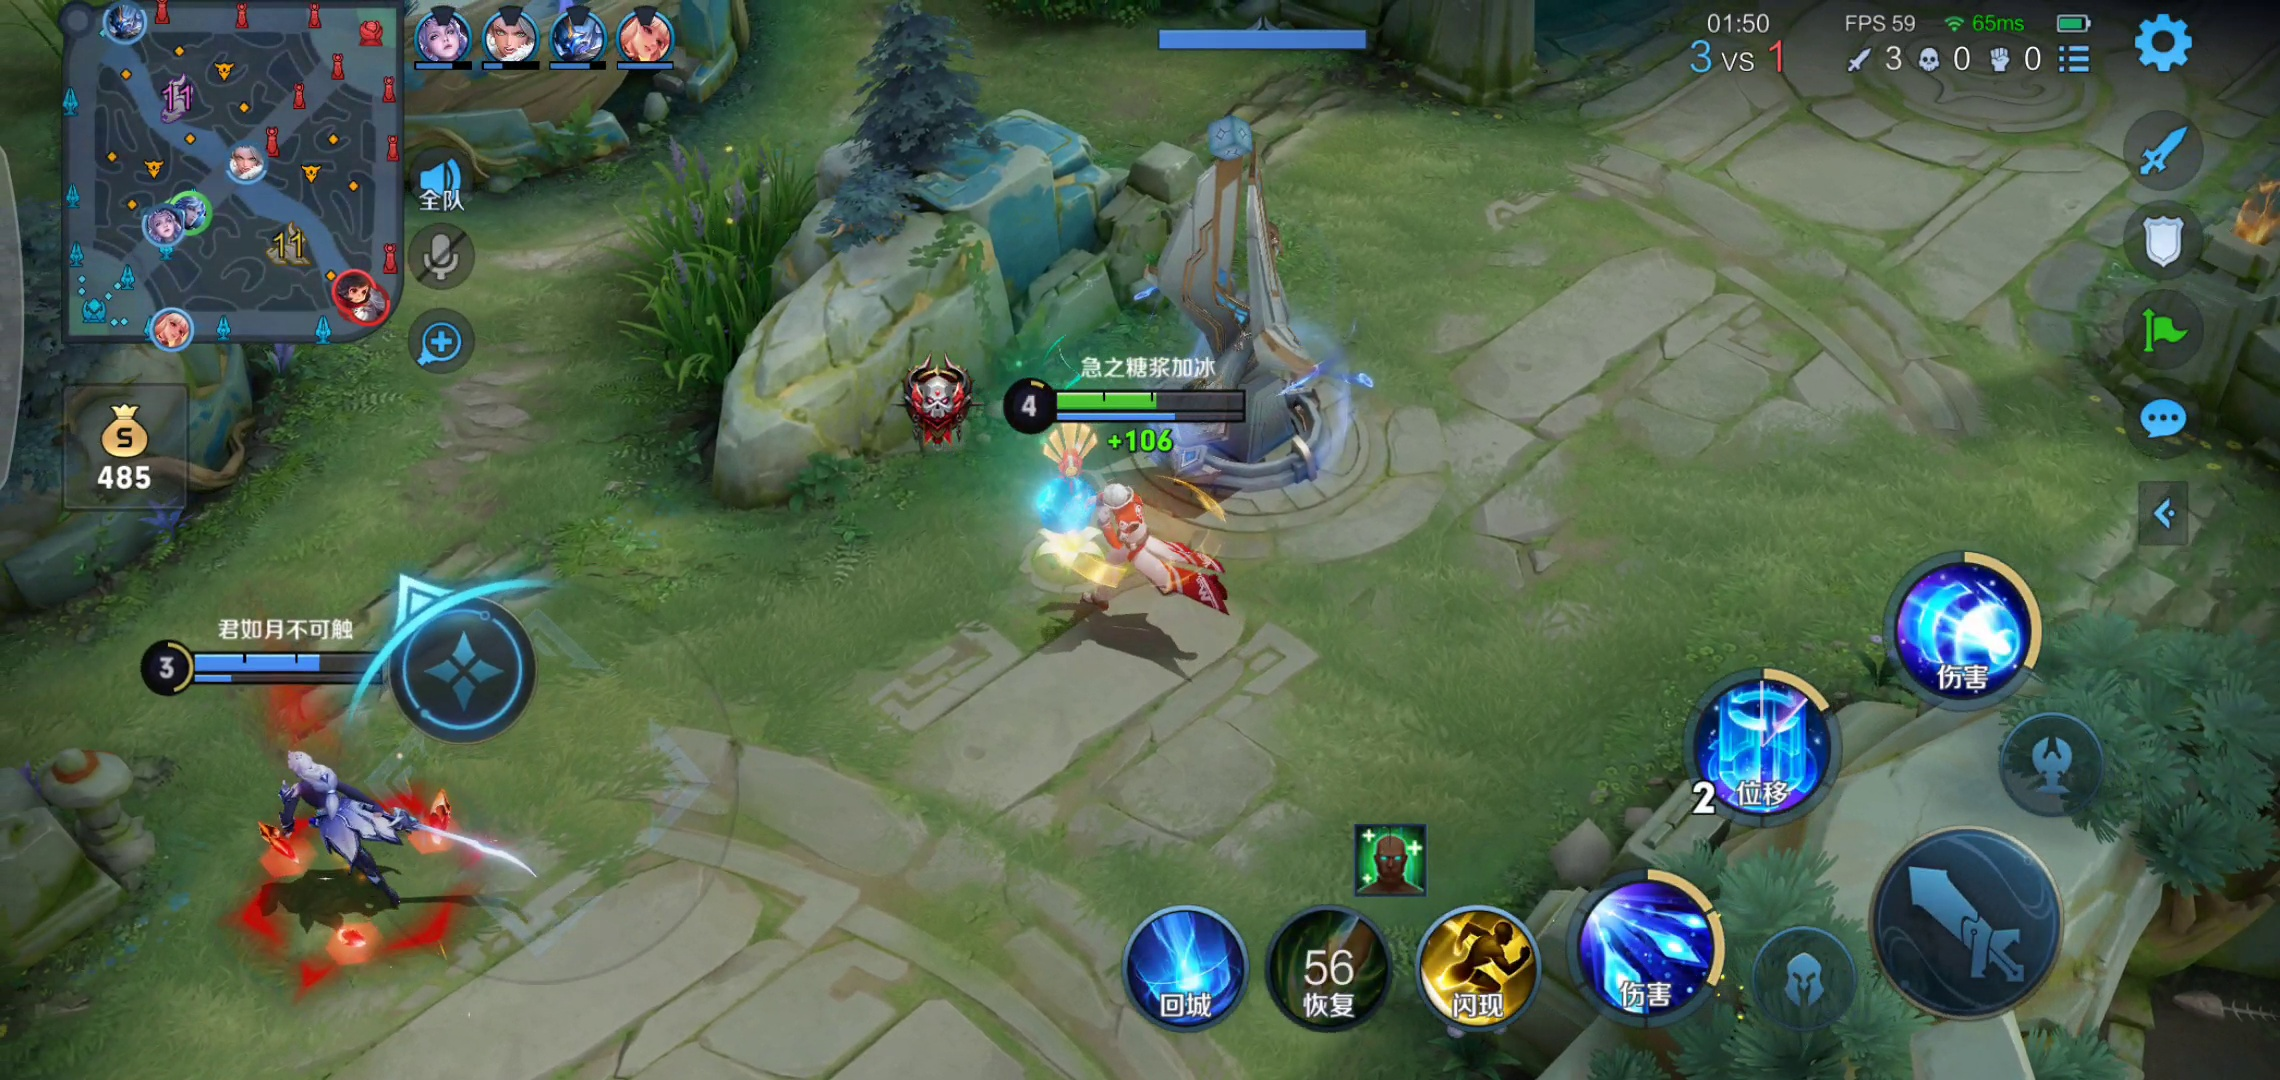grass: (602, 150, 803, 385)
hero: (238, 762, 489, 970), (1006, 459, 1223, 654)
tower: (1109, 113, 1370, 497)
